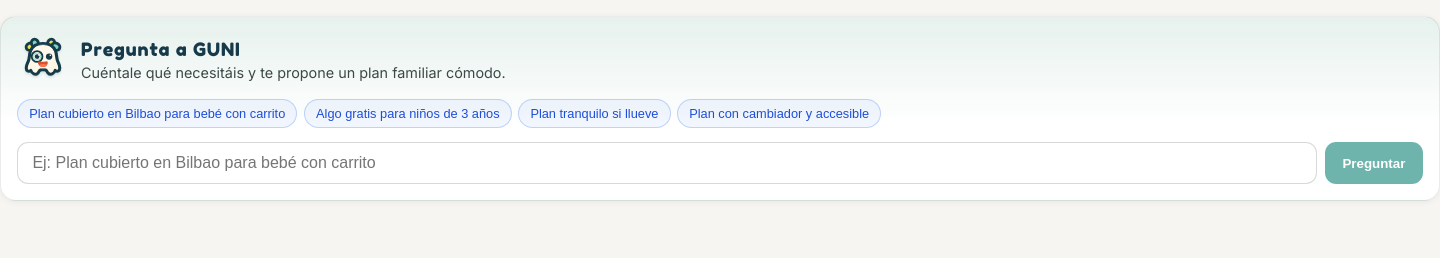
GuniPanel › error: muestra mensaje amable sin romper
Type "plan" into the field named "Tu necesidad familiar".
click(667, 163); type("plan")  # box [17,142,1317,184]
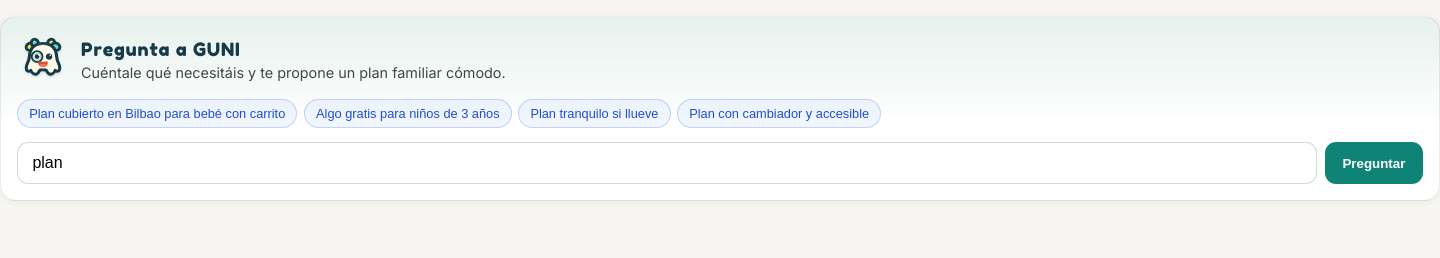
Click the button "Preguntar".
click(1374, 163)  # box [1325,142,1423,184]
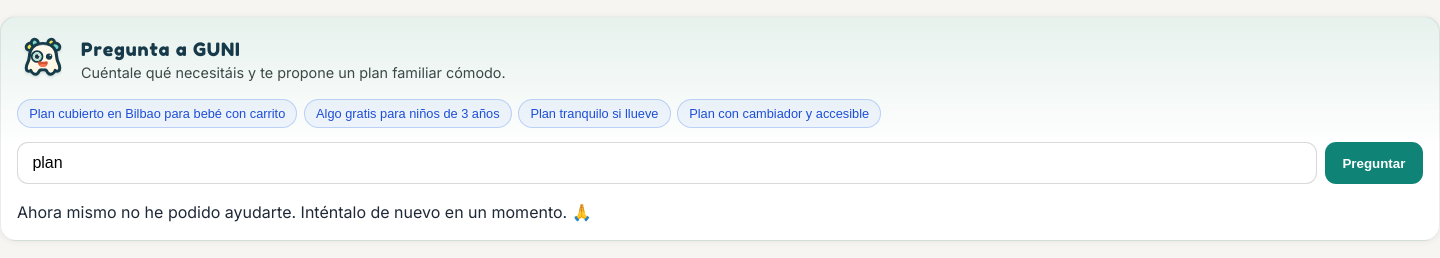
Check: the text "Inténtalo de nuevo" is shown, box [17,202,592,222]
